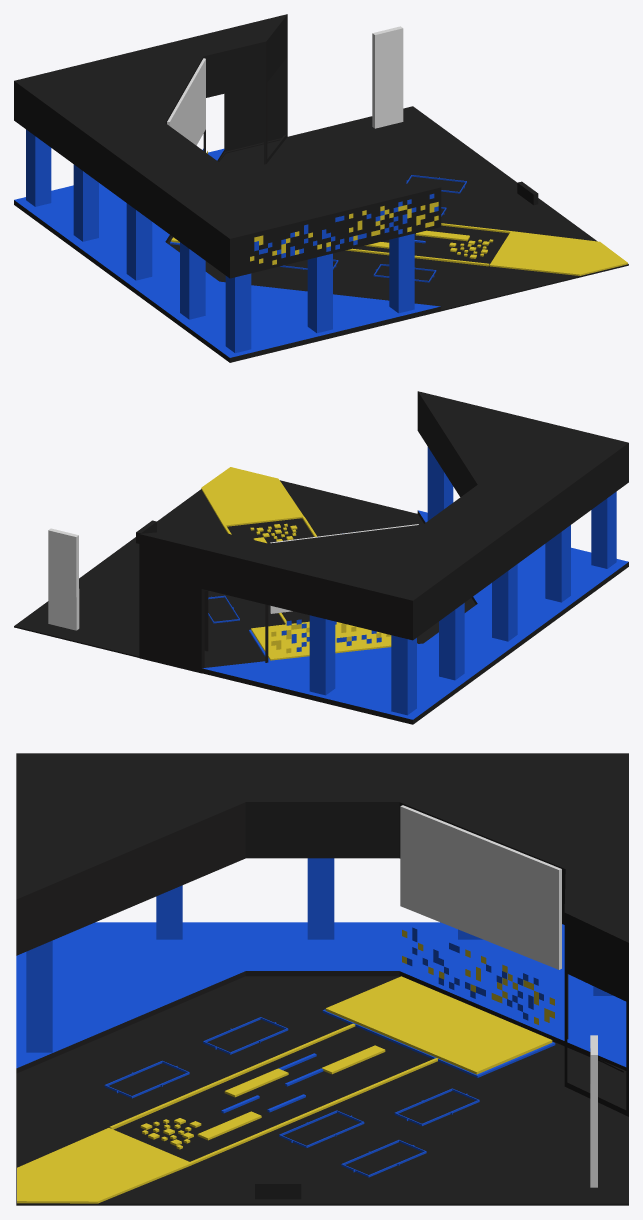
The picture shows the model from 3 angles, top to bottom: view 1: azimuth 30°, elevation 25°; view 2: azimuth 150°, elevation 25°; view 3: azimuth 270°, elevation 25°; orthographic projection. The views are drawn at different scales.
Visible parts, largest first — view 1: 立方体.001, 立方体, 立方体.053, 立方体.034, 立方体.048, 立方体.003, 立方体.002, 立方体.049, 立方体.035, 立方体.005, 立方体.006, 立方体.004 (+3 smaller); view 2: 立方体.001, 立方体, 立方体.053, 立方体.034, 立方体.048, 立方体.052, 立方体.008, 立方体.007, 立方体.005, 立方体.006, 立方体.003, 立方体.004 (+2 smaller); view 3: 立方体, 立方体.001, 立方体.053, 立方体.035, 立方体.052, 立方体.034, 立方体.002, 立方体.005, 立方体.004, 立方体.039, 立方体.048, 立方体.050 (+7 smaller).
Part boxes in pixels (x1=…): 立方体.001: x1=14, y1=14, x2=441, y2=278; 立方体: x1=14, y1=106, x2=628, y2=362; 立方体.053: x1=14, y1=148, x2=440, y2=357; 立方体.034: x1=489, y1=231, x2=627, y2=275; 立方体.048: x1=372, y1=26, x2=403, y2=128; 立方体.003: x1=225, y1=273, x2=251, y2=353; 立方体.002: x1=389, y1=233, x2=414, y2=313; 立方体.049: x1=307, y1=253, x2=332, y2=333; 立方体.035: x1=167, y1=58, x2=205, y2=145; 立方体.005: x1=126, y1=203, x2=152, y2=280; 立方体.006: x1=73, y1=164, x2=98, y2=241; 立方体.004: x1=180, y1=242, x2=205, y2=319; 立方体.001: x1=139, y1=391, x2=628, y2=673; 立方体: x1=14, y1=480, x2=628, y2=724; 立方体.053: x1=202, y1=510, x2=628, y2=719; 立方体.034: x1=201, y1=467, x2=303, y2=526; 立方体.048: x1=48, y1=528, x2=79, y2=630; 立方体.052: x1=251, y1=621, x2=391, y2=660; 立方体.008: x1=309, y1=615, x2=335, y2=695; 立方体.007: x1=391, y1=635, x2=416, y2=715; 立方体.005: x1=492, y1=564, x2=517, y2=641; 立方体.006: x1=439, y1=603, x2=464, y2=680; 立方体.003: x1=591, y1=491, x2=616, y2=568; 立方体.004: x1=545, y1=525, x2=570, y2=602; 立方体: x1=16, y1=971, x2=628, y2=1205; 立方体.001: x1=16, y1=753, x2=628, y2=1116; 立方体.053: x1=16, y1=922, x2=626, y2=1068; 立方体.035: x1=400, y1=805, x2=561, y2=969; 立方体.052: x1=325, y1=976, x2=552, y2=1074; 立方体.034: x1=17, y1=1128, x2=192, y2=1203; 立方体.002: x1=26, y1=940, x2=52, y2=1052; 立方体.005: x1=307, y1=858, x2=334, y2=939; 立方体.004: x1=156, y1=885, x2=182, y2=939; 立方体.039: x1=407, y1=927, x2=543, y2=1020; 立方体.048: x1=590, y1=1035, x2=597, y2=1187; 立方体.050: x1=109, y1=1023, x2=355, y2=1129.
Size of the model in its own units: 64 by 19.29 by 60.22.
